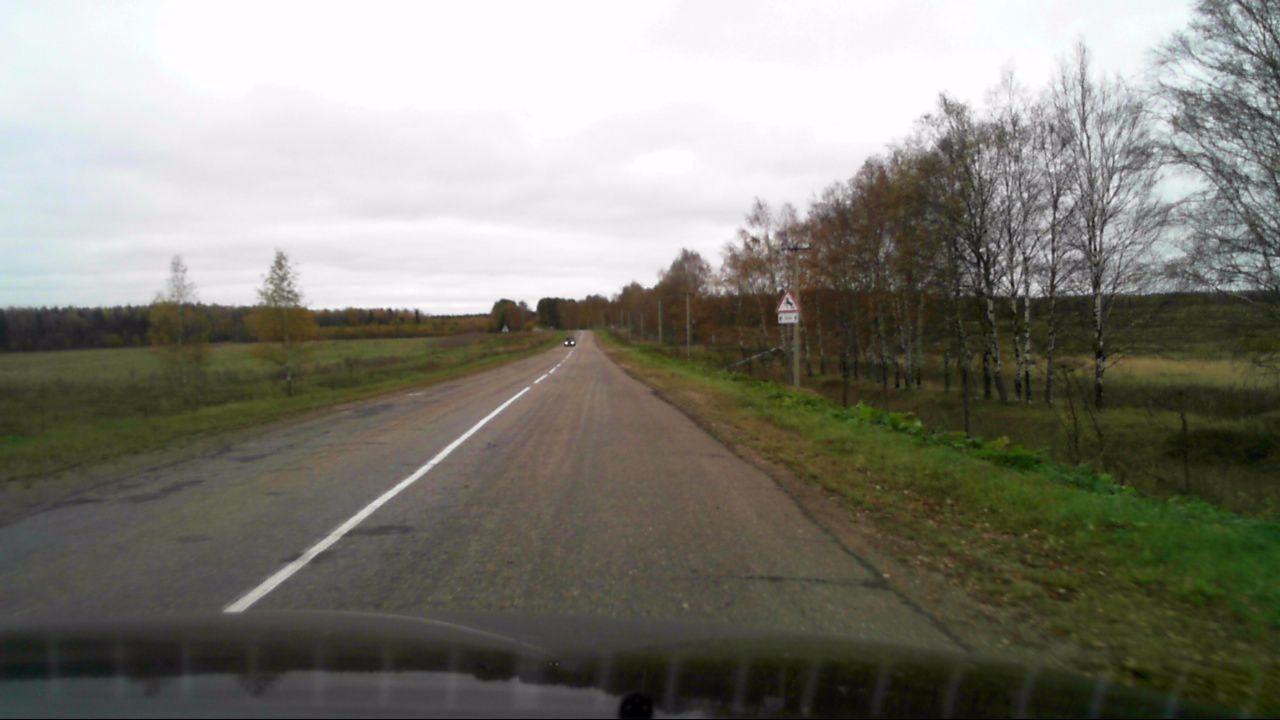1_27: (775, 291, 799, 311)
8_2_1: (777, 313, 799, 324)
